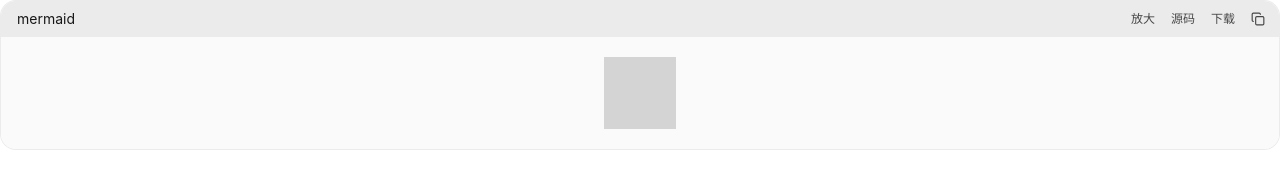
Test: Mermaid 图表预览 › 保存被取消或失败时明确反馈
Click the button "下载" at (1223, 19), box [1205, 7, 1241, 31]
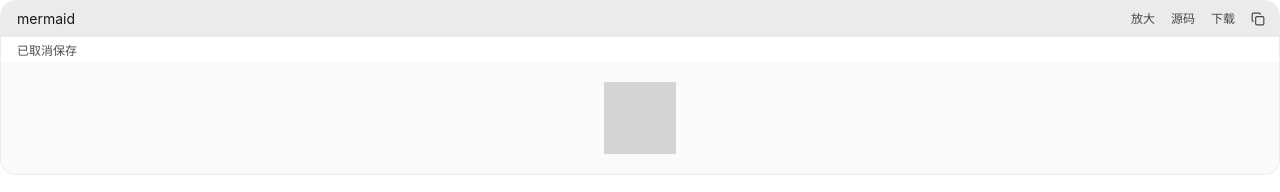
Check: the message reads "已取消保存", box [17, 43, 77, 58]
Click the button "下载" at (1223, 19), box [1205, 7, 1241, 31]
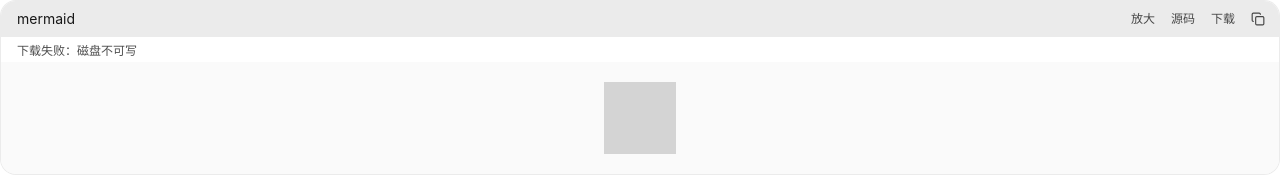
Check: the message reads "下载失败：磁盘不可写", box [17, 43, 137, 58]
